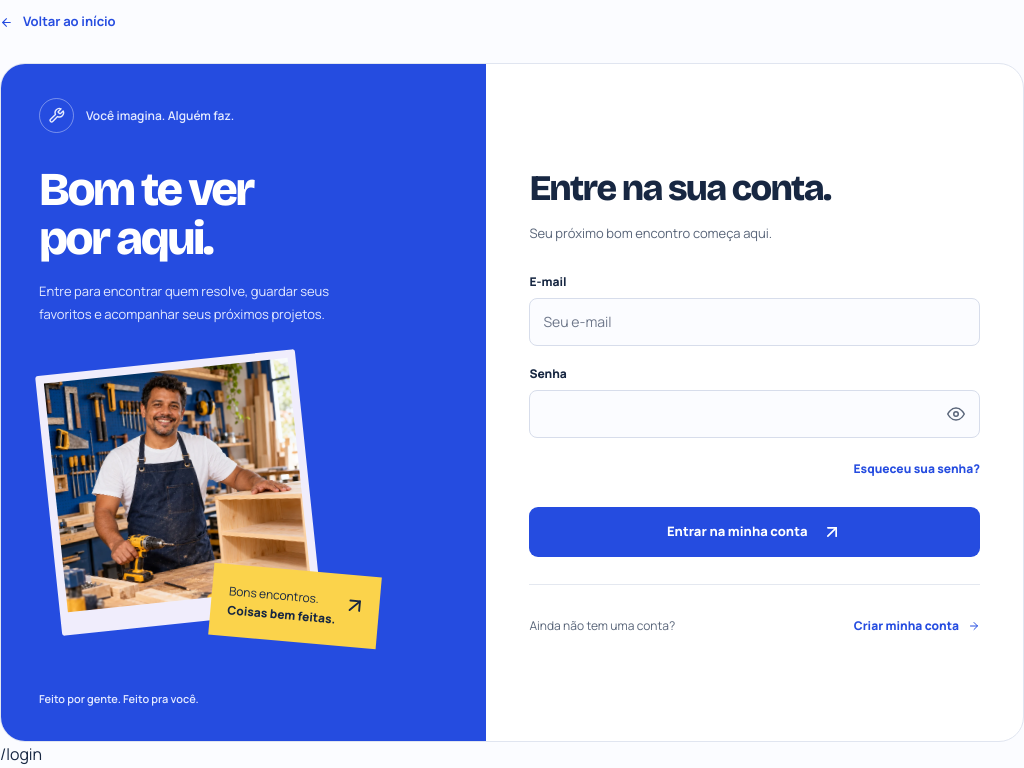
Test: login inválido fica no formulário; mostrar senha e pedir ajuda não autenticam
The width and height of the screenshot is (1024, 768).
Click the button "Entrar na minha conta" at (755, 532), box [529, 507, 980, 557]
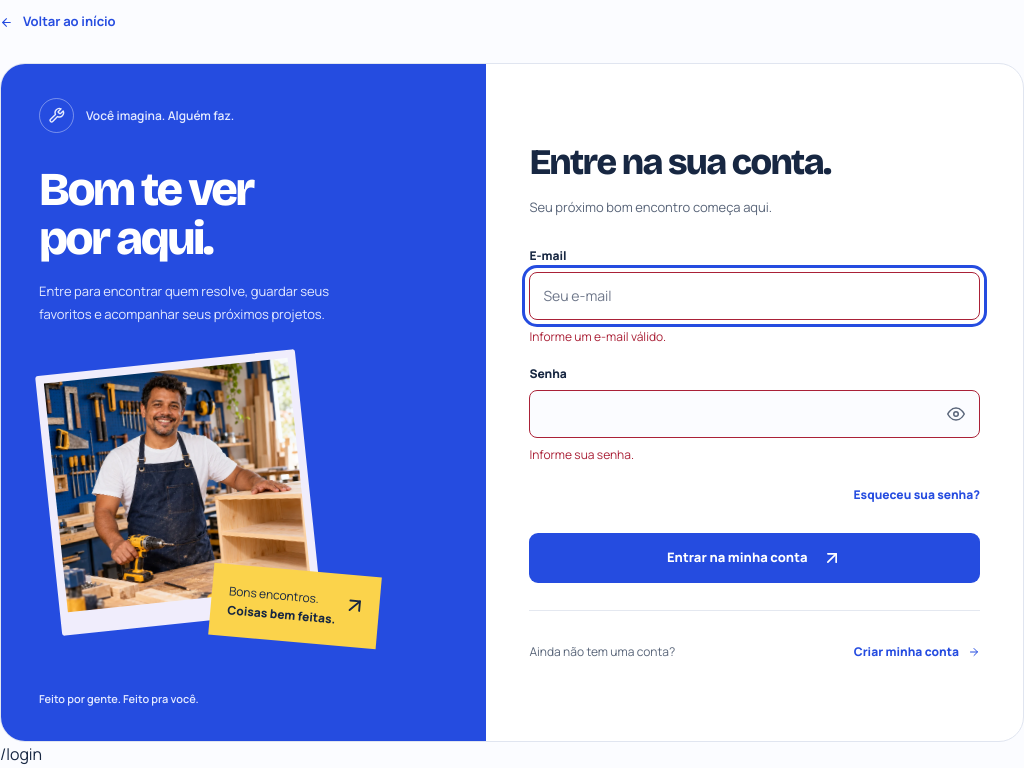
Expected: the text "Informe sua senha." is shown, [529, 446, 634, 463]
Type "teste" into the password field labelled "Senha" at (755, 414), box [529, 390, 980, 438]
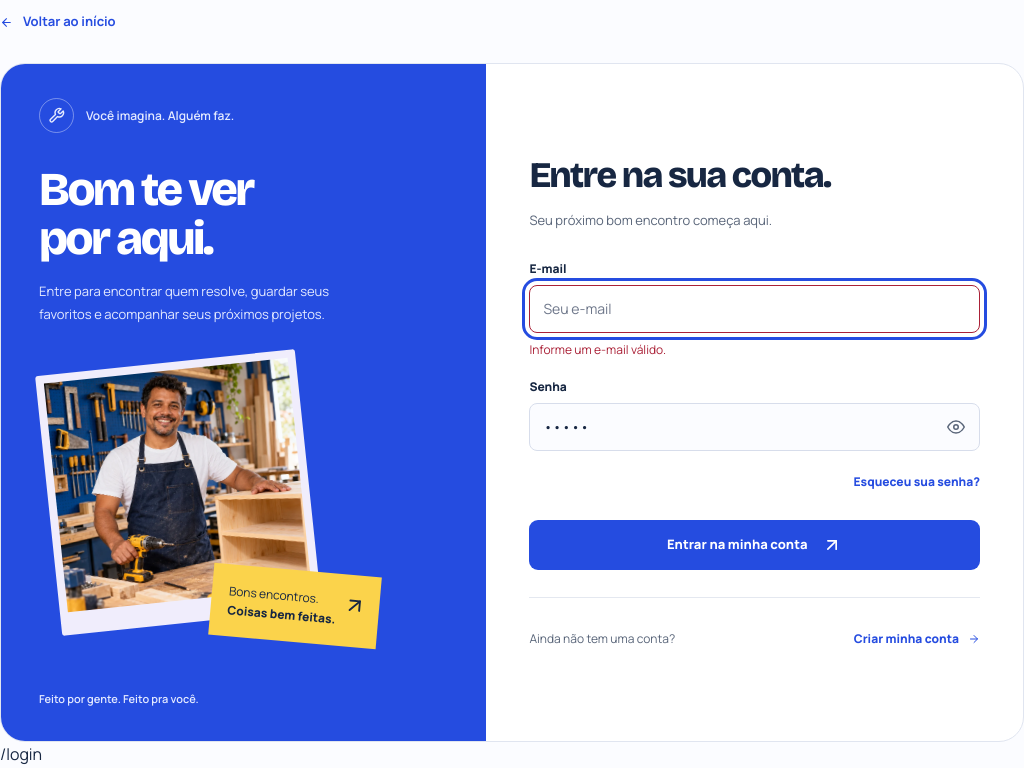
Click the button named "Mostrar senha" at (956, 427), box [934, 405, 978, 449]
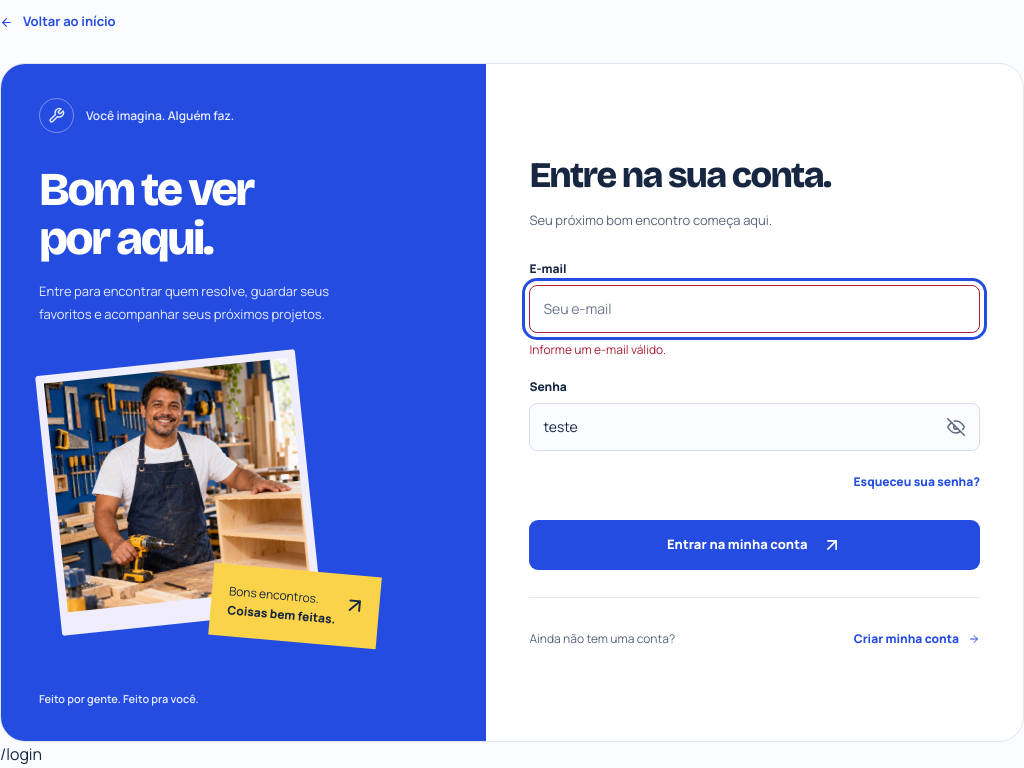
Expected: the field labelled "Senha" shows its text, [529, 403, 980, 451]
Click the button "Esqueceu sua senha?" at (917, 482), box [854, 460, 980, 504]
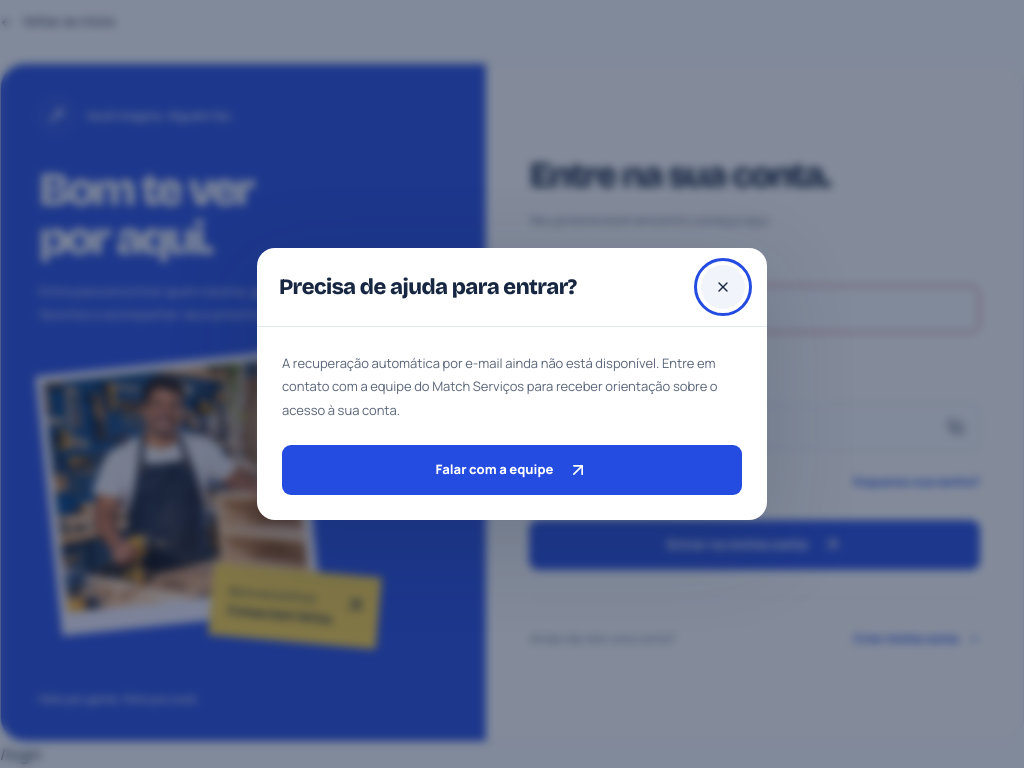
Expected: the dialog shows "recuperação automática por e-mail ainda não está disponível", [282, 354, 718, 419]
